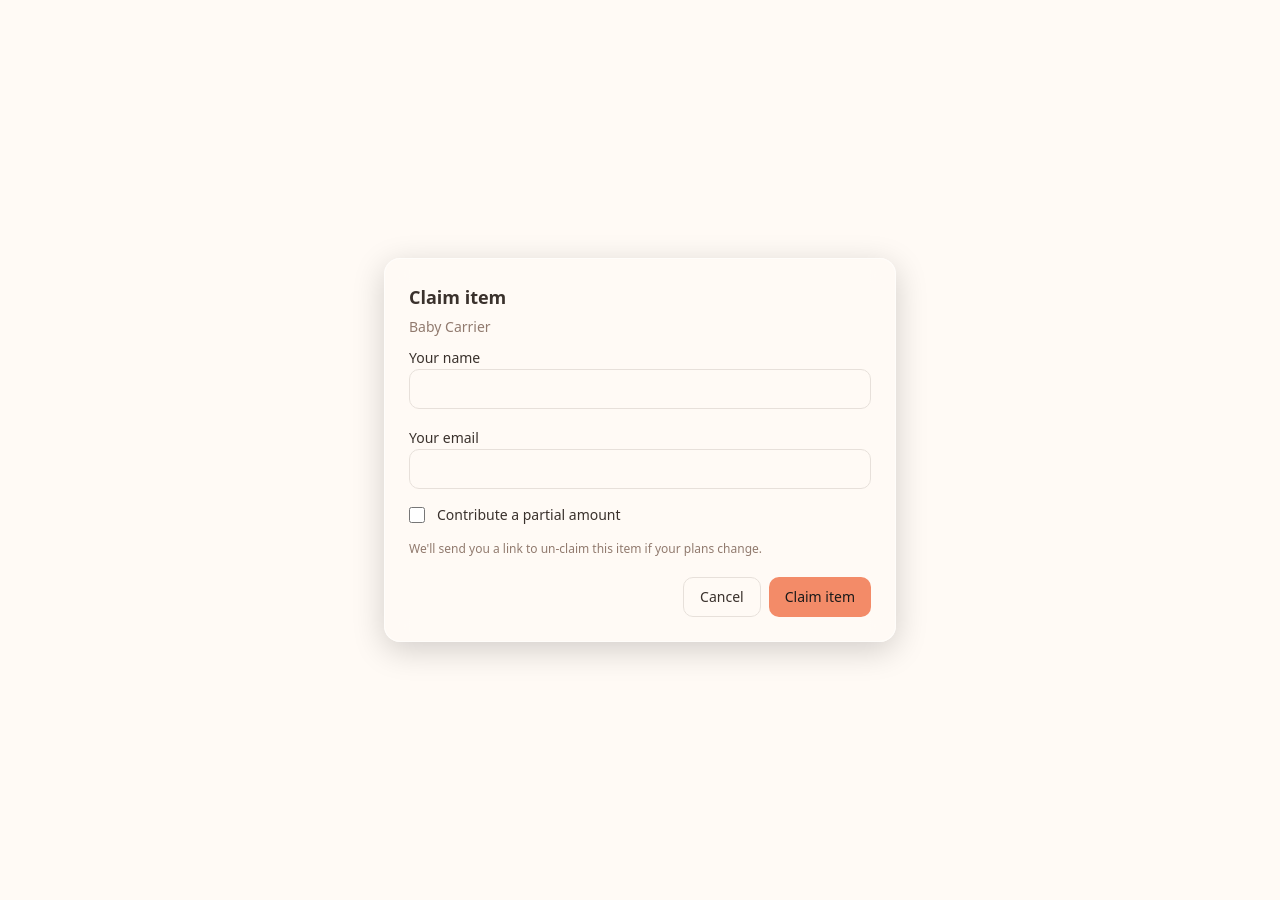
it: ClaimDialog › shows validation errors when submitted empty
This screenshot has width=1280, height=900.
Click the button "Claim item". click: (820, 597)
box: 769,577 -> 871,617
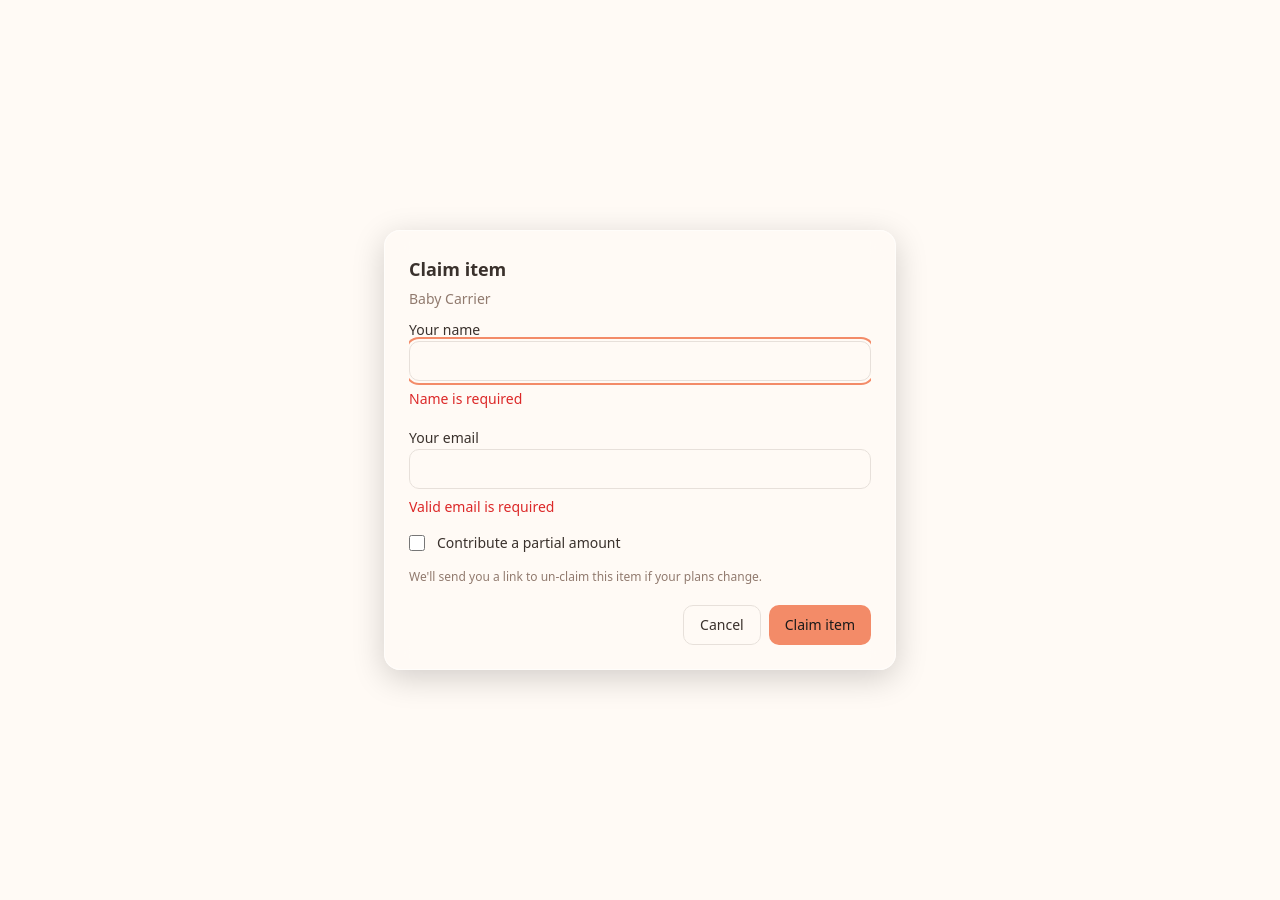
Result: the text "Name is required" is shown at 409,389 -> 522,408
Result: the text "Valid email is required" is shown at 409,497 -> 554,516
